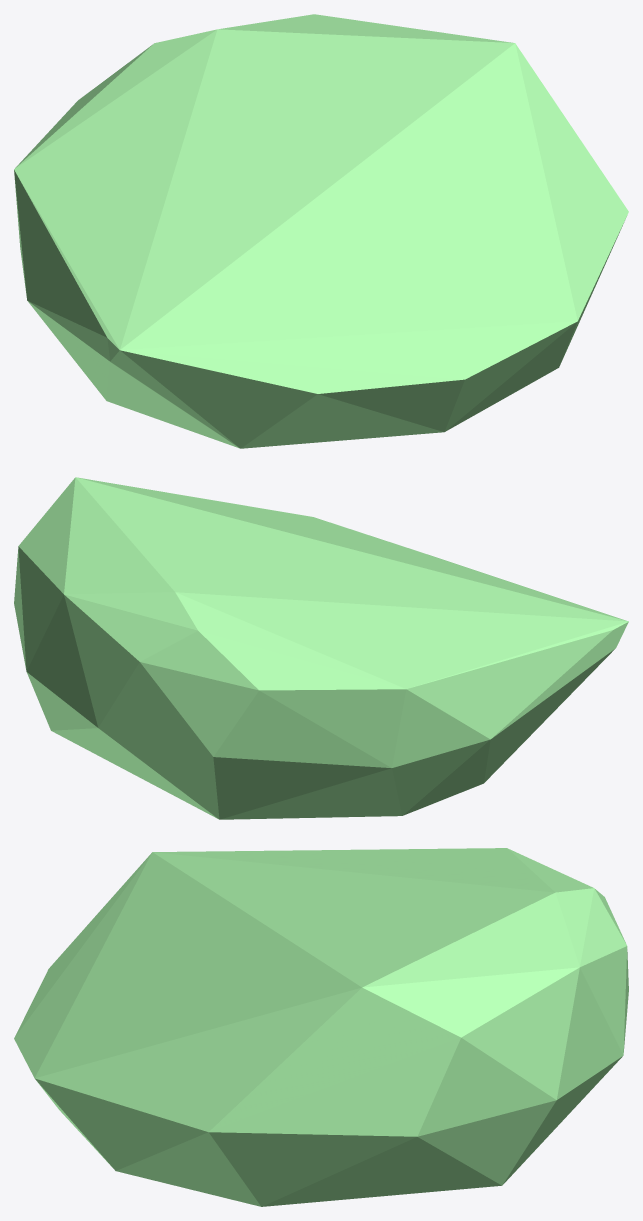
The model's file is linkhou_LR4_R560_link5_respondable_coll_7.dae.
3 views of the same model, one above another, from view 1: azimuth 30°, elevation 25°; view 2: azimuth 150°, elevation 25°; view 3: azimuth 270°, elevation 25° (orthographic). The views are drawn at different scales.
Parts seen in each view (by area): view 1: Node_00000209DB3AA780; view 2: Node_00000209DB3AA780; view 3: Node_00000209DB3AA780.
Boxes of the visible parts, box(x1,y1,x2,y2) form: Node_00000209DB3AA780: box(14, 14, 628, 448); Node_00000209DB3AA780: box(14, 477, 628, 819); Node_00000209DB3AA780: box(14, 848, 628, 1206).
Bounding box in the file's own units: 0.0741 × 0.0318 × 0.0719.
